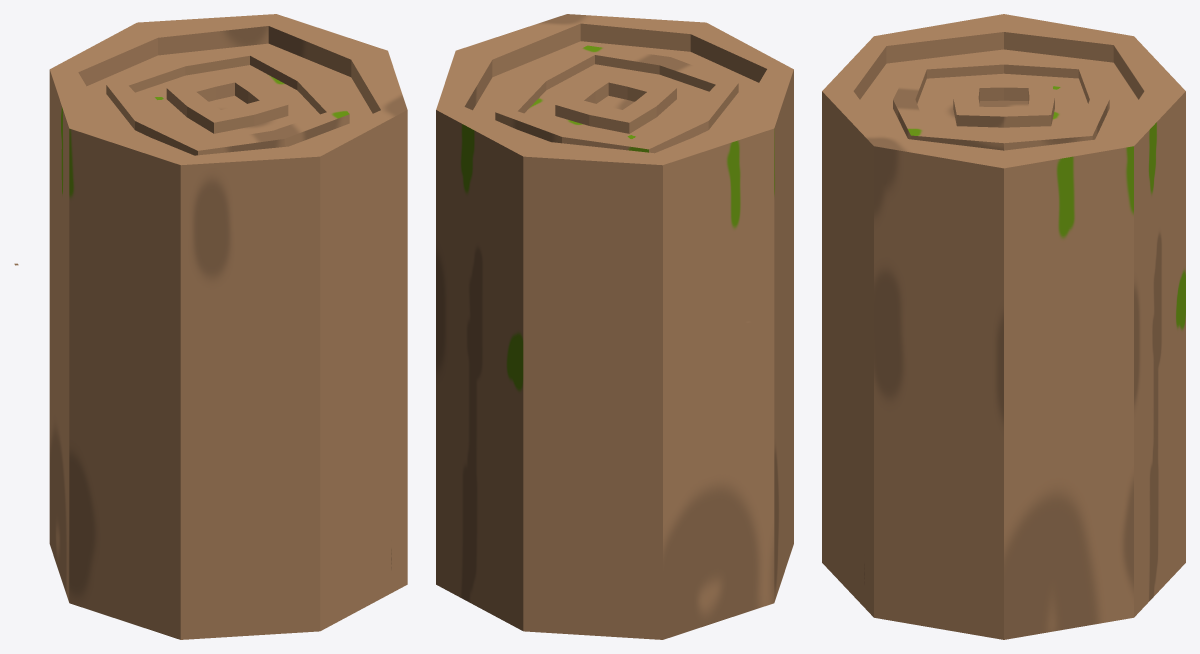
Rendered from woodLog2.fbx.
The picture shows the model from 3 angles, left to right: view 1: azimuth 30°, elevation 25°; view 2: azimuth 150°, elevation 25°; view 3: azimuth 270°, elevation 25°; orthographic projection.
Parts seen in each view (by area): view 1: Cube; view 2: Cube; view 3: Cube.
Boxes of the visible parts, <box> form: Cube: <box>14,14,407,639</box>; Cube: <box>436,14,793,639</box>; Cube: <box>822,14,1185,639</box>.
Size of the model in its own units: 147 by 200 by 140.
